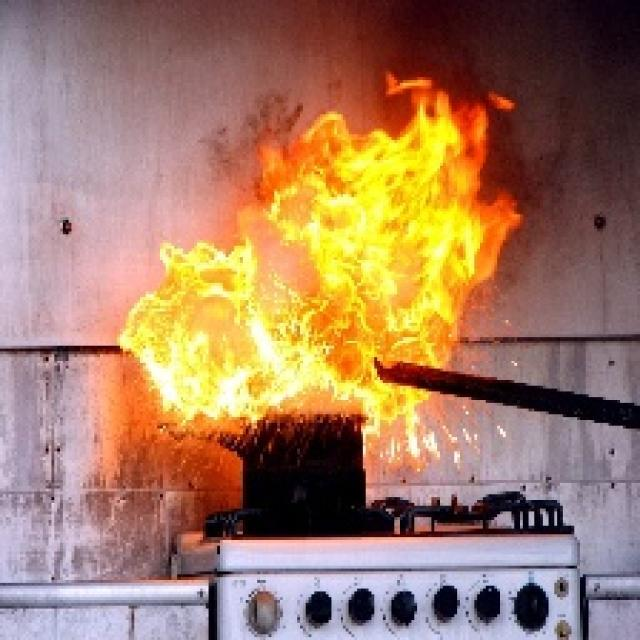Fire: (121, 73, 524, 422)
